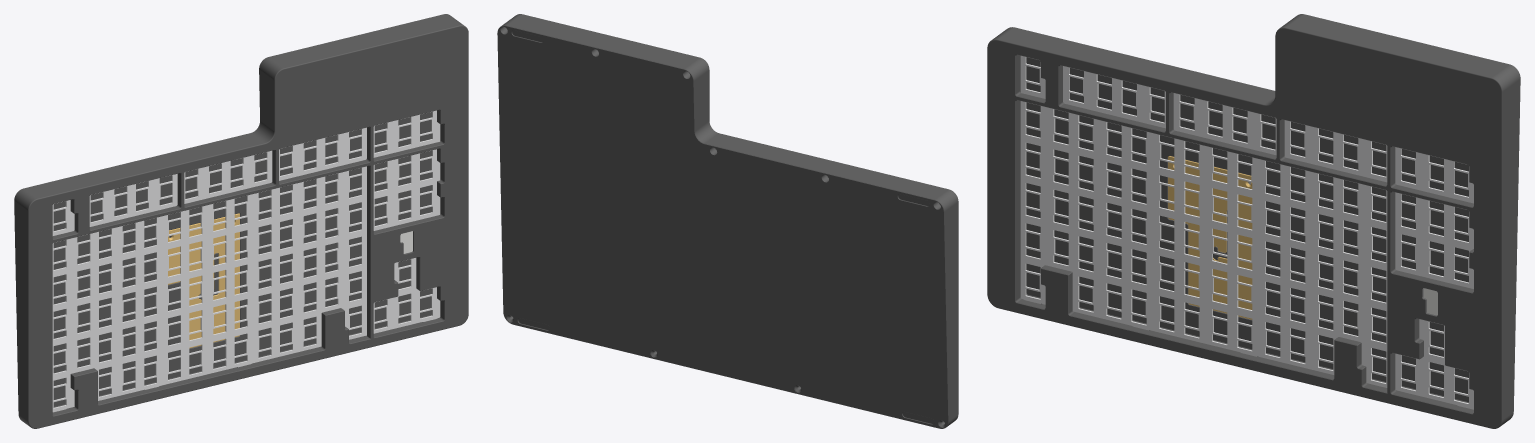
File: iso-pat.fbx
3 views of the same model, side by side, from view 1: azimuth 30°, elevation 25°; view 2: azimuth 150°, elevation 25°; view 3: azimuth 330°, elevation 25° (orthographic). The views are drawn at different scales.
Visible parts, largest first — view 1: Top, Plate, Bottom, Weight; view 2: Bottom, Top; view 3: Top, Plate, Bottom, Weight.
Boxes of the visible parts, x1,y1,x2,y2 form: Top: [22, 21, 468, 428]; Plate: [52, 110, 440, 412]; Bottom: [14, 14, 458, 422]; Weight: [168, 213, 239, 348]; Bottom: [497, 18, 953, 428]; Top: [512, 14, 958, 423]; Top: [987, 22, 1508, 428]; Plate: [1020, 55, 1473, 409]; Bottom: [998, 14, 1520, 421]; Weight: [1168, 156, 1252, 319].
Size of the model in its own units: 510 by 332 by 32.25.
